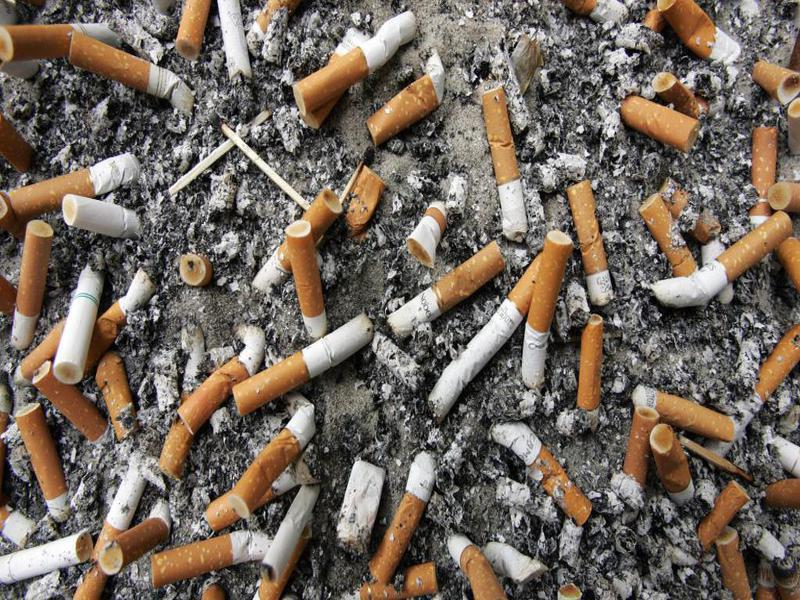burned_cigarette: (227, 308, 378, 421), (646, 204, 796, 312), (283, 9, 421, 119), (380, 236, 511, 348), (486, 415, 600, 528), (221, 412, 324, 526), (66, 27, 193, 113), (478, 82, 541, 243), (3, 146, 149, 215), (142, 522, 279, 593), (364, 46, 453, 149), (561, 180, 625, 310), (278, 215, 344, 341), (48, 254, 110, 387), (12, 400, 76, 525), (634, 369, 740, 444), (325, 450, 392, 561), (5, 212, 56, 355), (611, 89, 706, 158), (642, 422, 708, 509), (569, 313, 611, 414)
